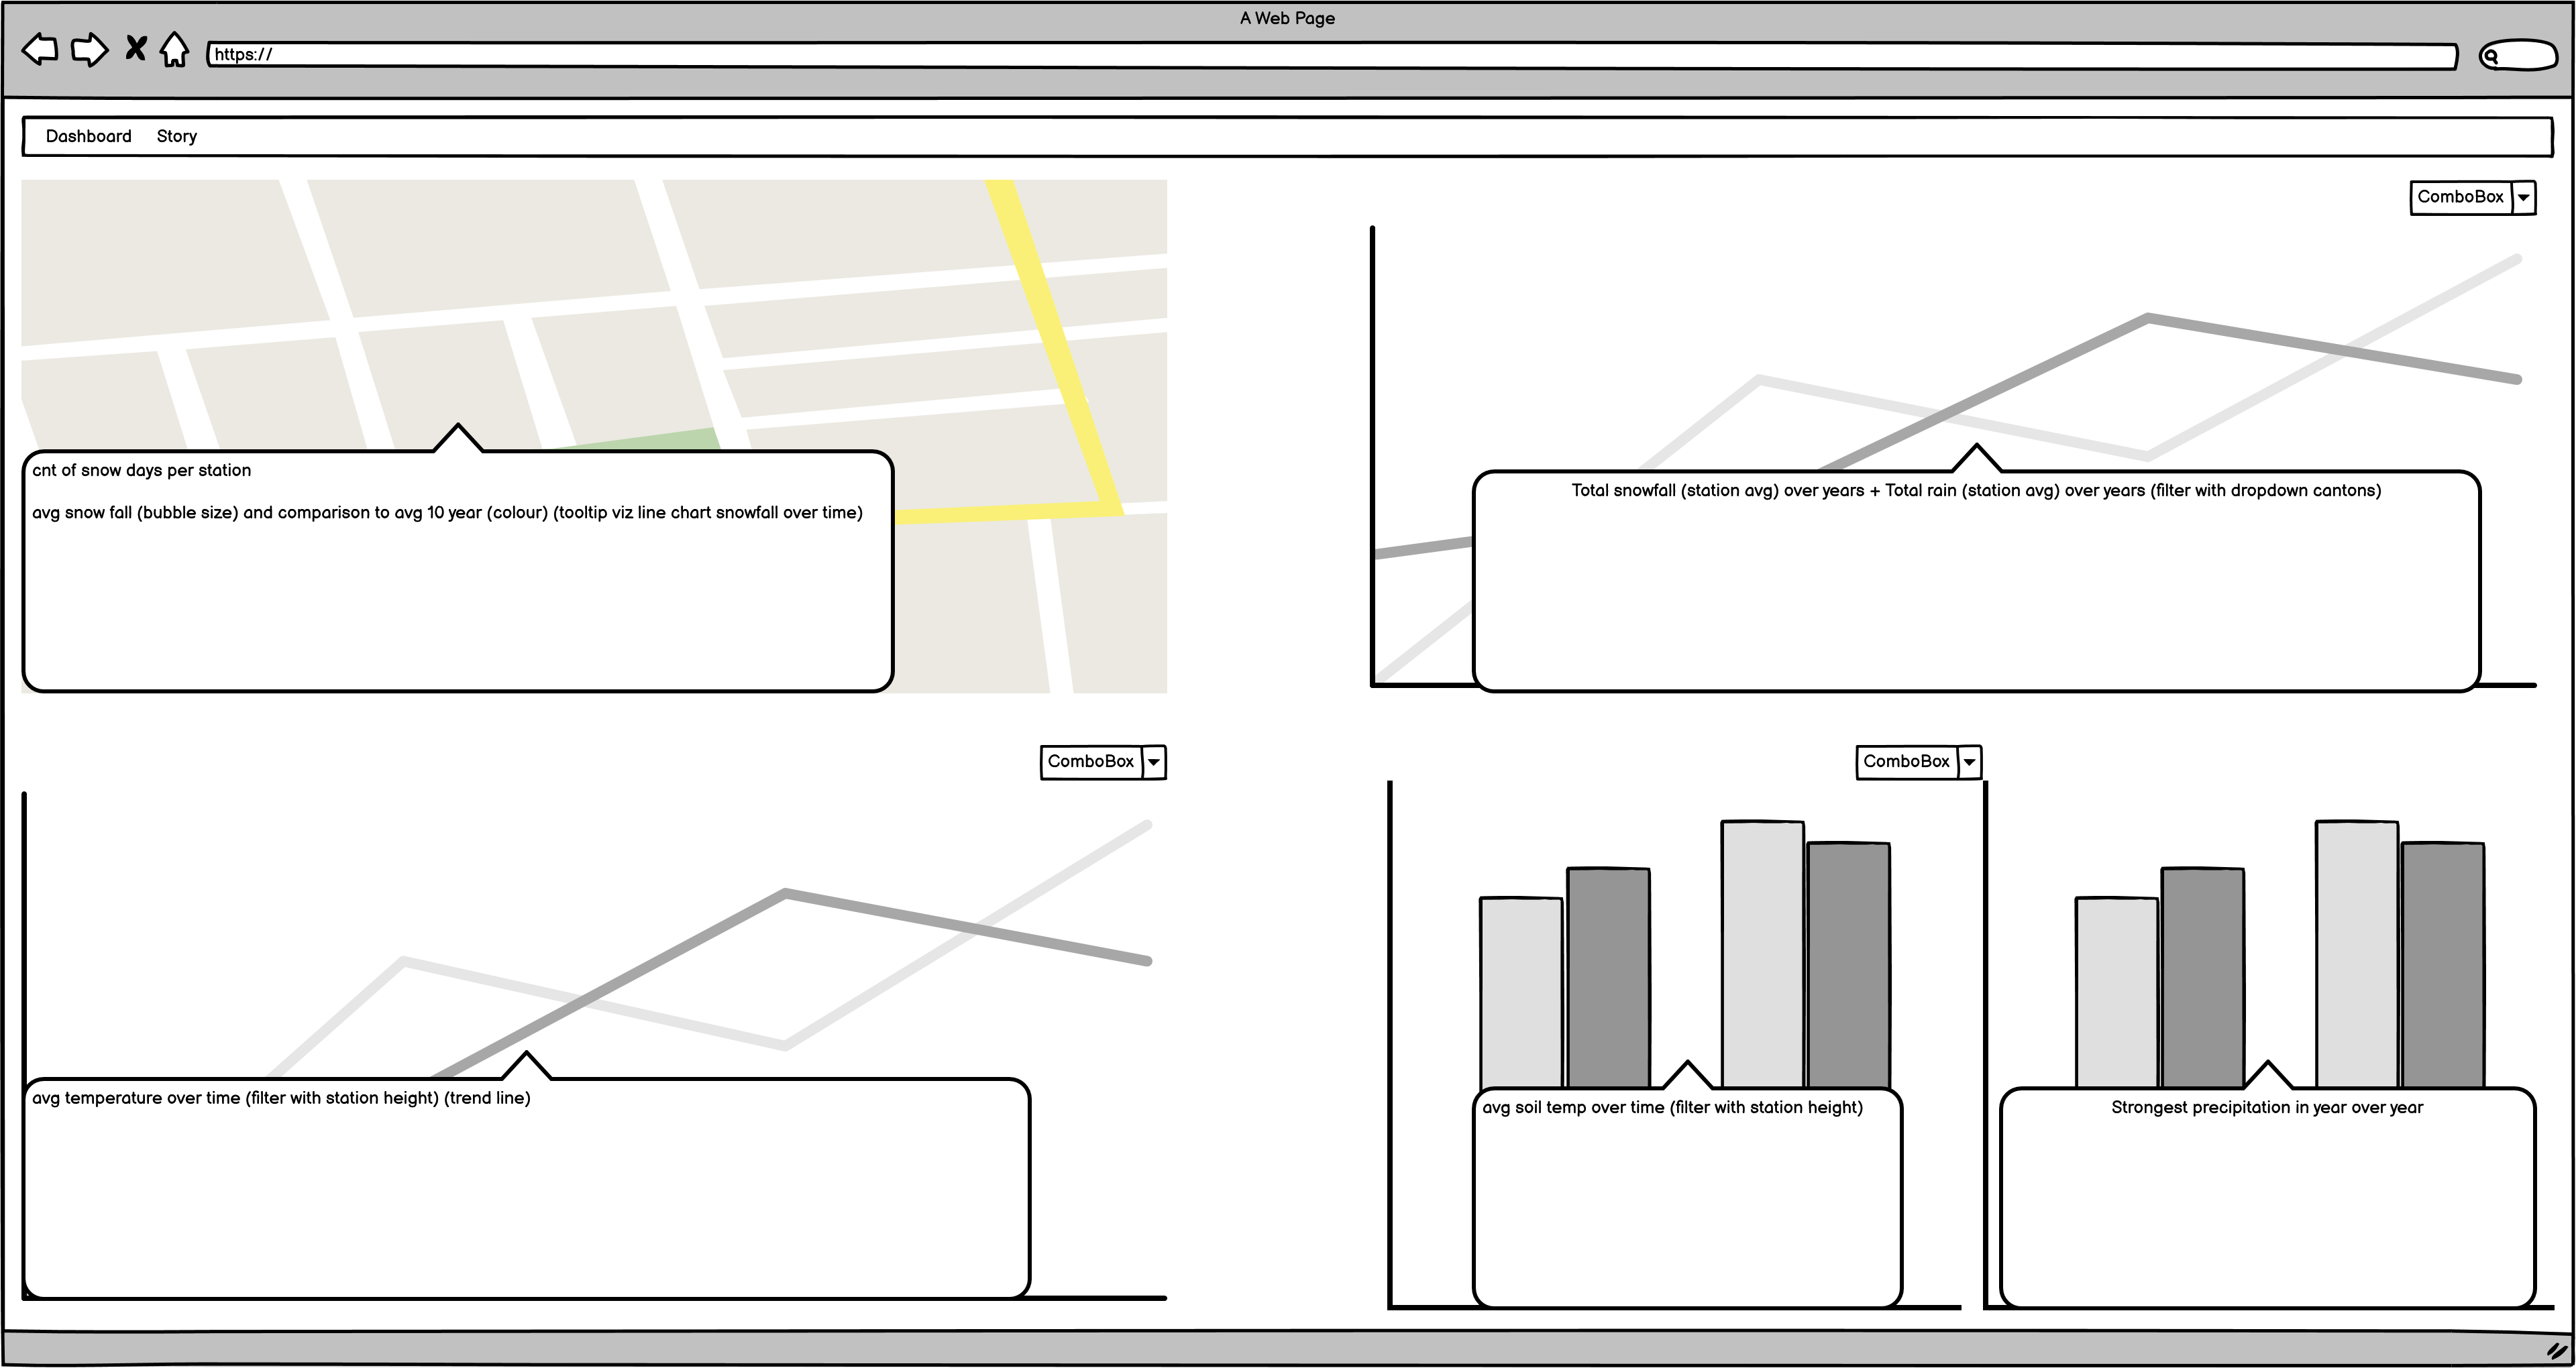

Layout of this report page (visuals, bound fields, positions):
{"tool":"tableau","page":{"name":"Dashboard 1","canvas":[1000,1000],"units":"permille","ordinal":0},"visuals":[{"type":"worksheet","box":[0,0,1000,1000]},{"type":"worksheet","param":"vert","box":[3.4,6.3,993.2,987.3]},{"type":"worksheet","param":"horz","box":[3.4,6.3,993.2,632.9]},{"type":"worksheet","title":"Sheet 4","mark":"Circle","rows":["coordinates_y"],"cols":["coordinates_x"],"box":[3.4,6.3,464.4,632.9]},{"type":"worksheet","box":[467.9,6.3,528.7,632.9]},{"type":"worksheet","param":"horz","box":[3.4,639.2,993.2,354.4]},{"type":"worksheet","title":"Sheet 5","mark":"Line","rows":["station_name","prev_year_avg"],"cols":["lookback_year"],"box":[3.4,639.2,464.4,354.4]},{"type":"worksheet","box":[467.8,639.2,528.7,354.4]}]}

Visuals, with their boxes on the dashboard's canvas, which has no fixed pixel size, in thousandths of its width and height (x1, y1, x2, y2). These are canvas units, not pixel positions in the 2576x1368 screenshot, which may show the page scaled, cropped or inside an application window:
worksheet: BBox(0, 0, 1000, 1000)
worksheet: BBox(3, 6, 997, 994)
worksheet: BBox(3, 6, 997, 639)
"Sheet 4" worksheet (Circle marks): BBox(3, 6, 468, 639)
worksheet: BBox(468, 6, 997, 639)
worksheet: BBox(3, 639, 997, 994)
"Sheet 5" worksheet (Line marks): BBox(3, 639, 468, 994)
worksheet: BBox(468, 639, 996, 994)
